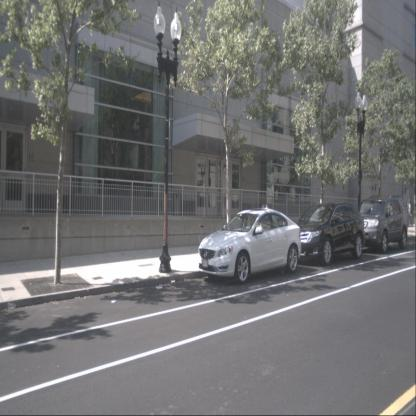human-pedestrian-adult: (406, 198, 414, 226)
vehicle-car: (199, 207, 301, 285), (292, 204, 366, 268), (359, 195, 408, 253)
